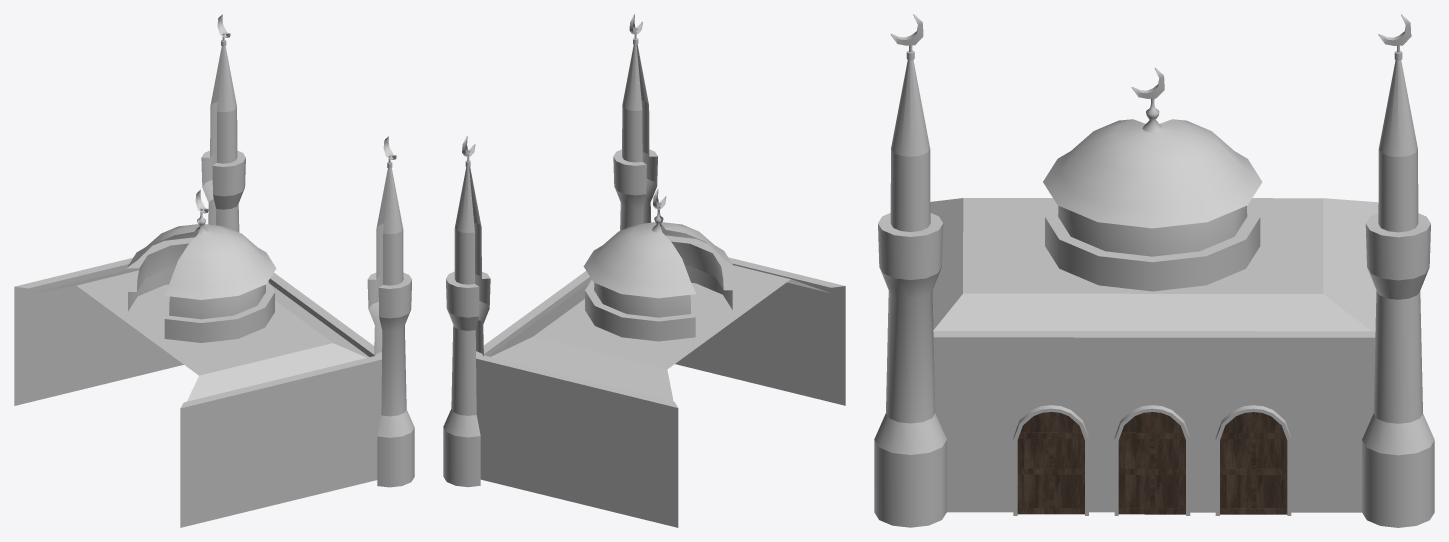
The model's file is Mosque.fbx.
3 renders of one model, left to right at view 1: azimuth 30°, elevation 25°; view 2: azimuth 150°, elevation 25°; view 3: azimuth 270°, elevation 25°, orthographic. The views are drawn at different scales.
Visible parts, largest first — view 1: Mosque; view 2: Mosque; view 3: Mosque.
Boxes of the visible parts, <box> form: Mosque: <box>14,14,414,527</box>; Mosque: <box>443,14,845,527</box>; Mosque: <box>874,14,1434,527</box>.
Size of the model in its own units: 387 by 543 by 554.
